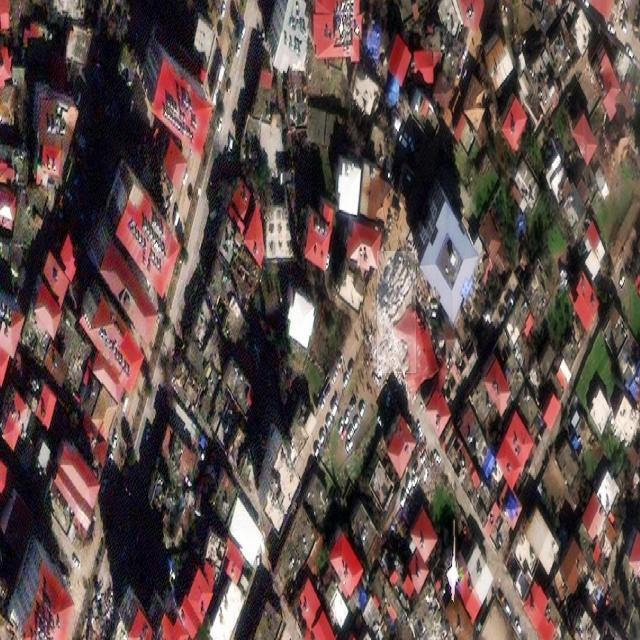Rubble: (377, 252, 416, 374)
